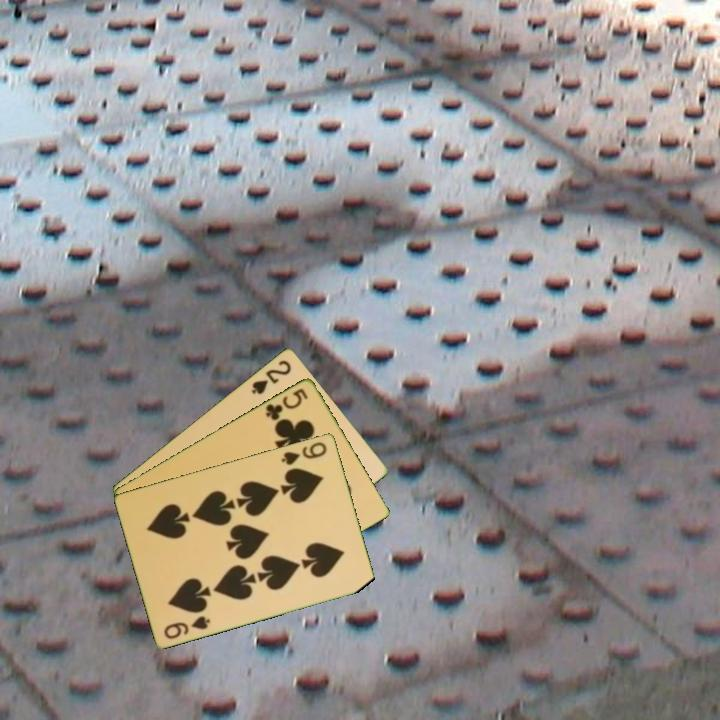2s: (248, 356, 294, 397)
5c: (262, 384, 311, 423)
9s: (160, 612, 213, 642), (278, 438, 330, 468)
